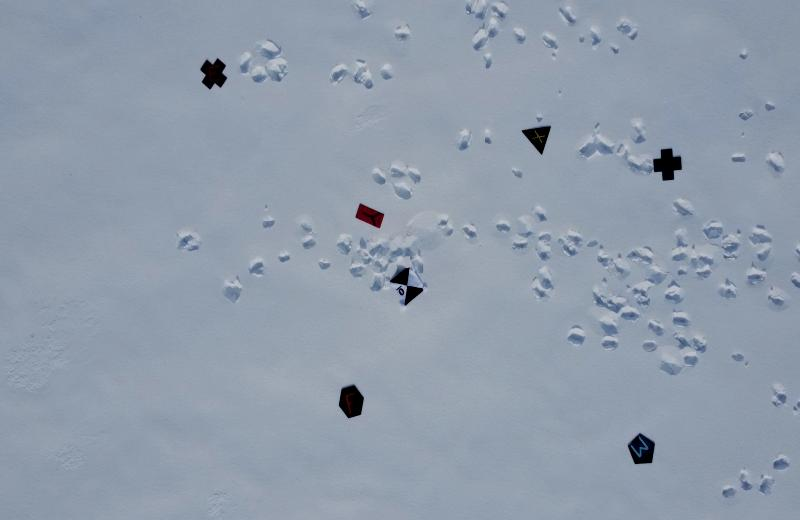Cross: (645, 146, 686, 185), (196, 58, 230, 94)
Hexagon: (336, 383, 366, 421)
Pentagon: (624, 430, 658, 469)
Rectangle: (352, 200, 388, 236)
Triangle: (518, 125, 555, 160)
